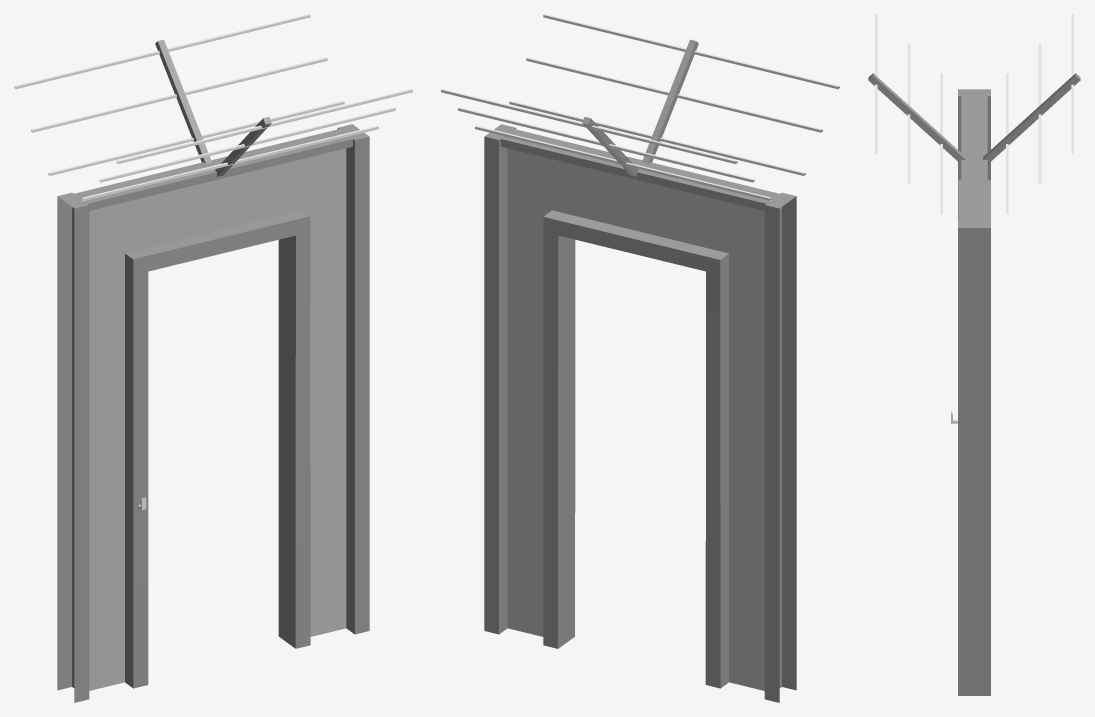
The model's file is SM_Grid_Door_A_200.FBX.
3 renders of one model, left to right at view 1: azimuth 30°, elevation 25°; view 2: azimuth 150°, elevation 25°; view 3: azimuth 270°, elevation 25°, orthographic. The views are drawn at different scales.
Visible parts, largest first — view 1: SM_Grid_Door_A_200; view 2: SM_Grid_Door_A_200; view 3: SM_Grid_Door_A_200.
Boxes of the visible parts, x1,y1,x2,y2 form: SM_Grid_Door_A_200: (14,14,412,702); SM_Grid_Door_A_200: (441,14,839,702); SM_Grid_Door_A_200: (868,14,1080,695).
Size of the model in its own units: 200 by 130 by 377.
